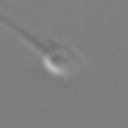normal: (1, 14, 46, 55)
